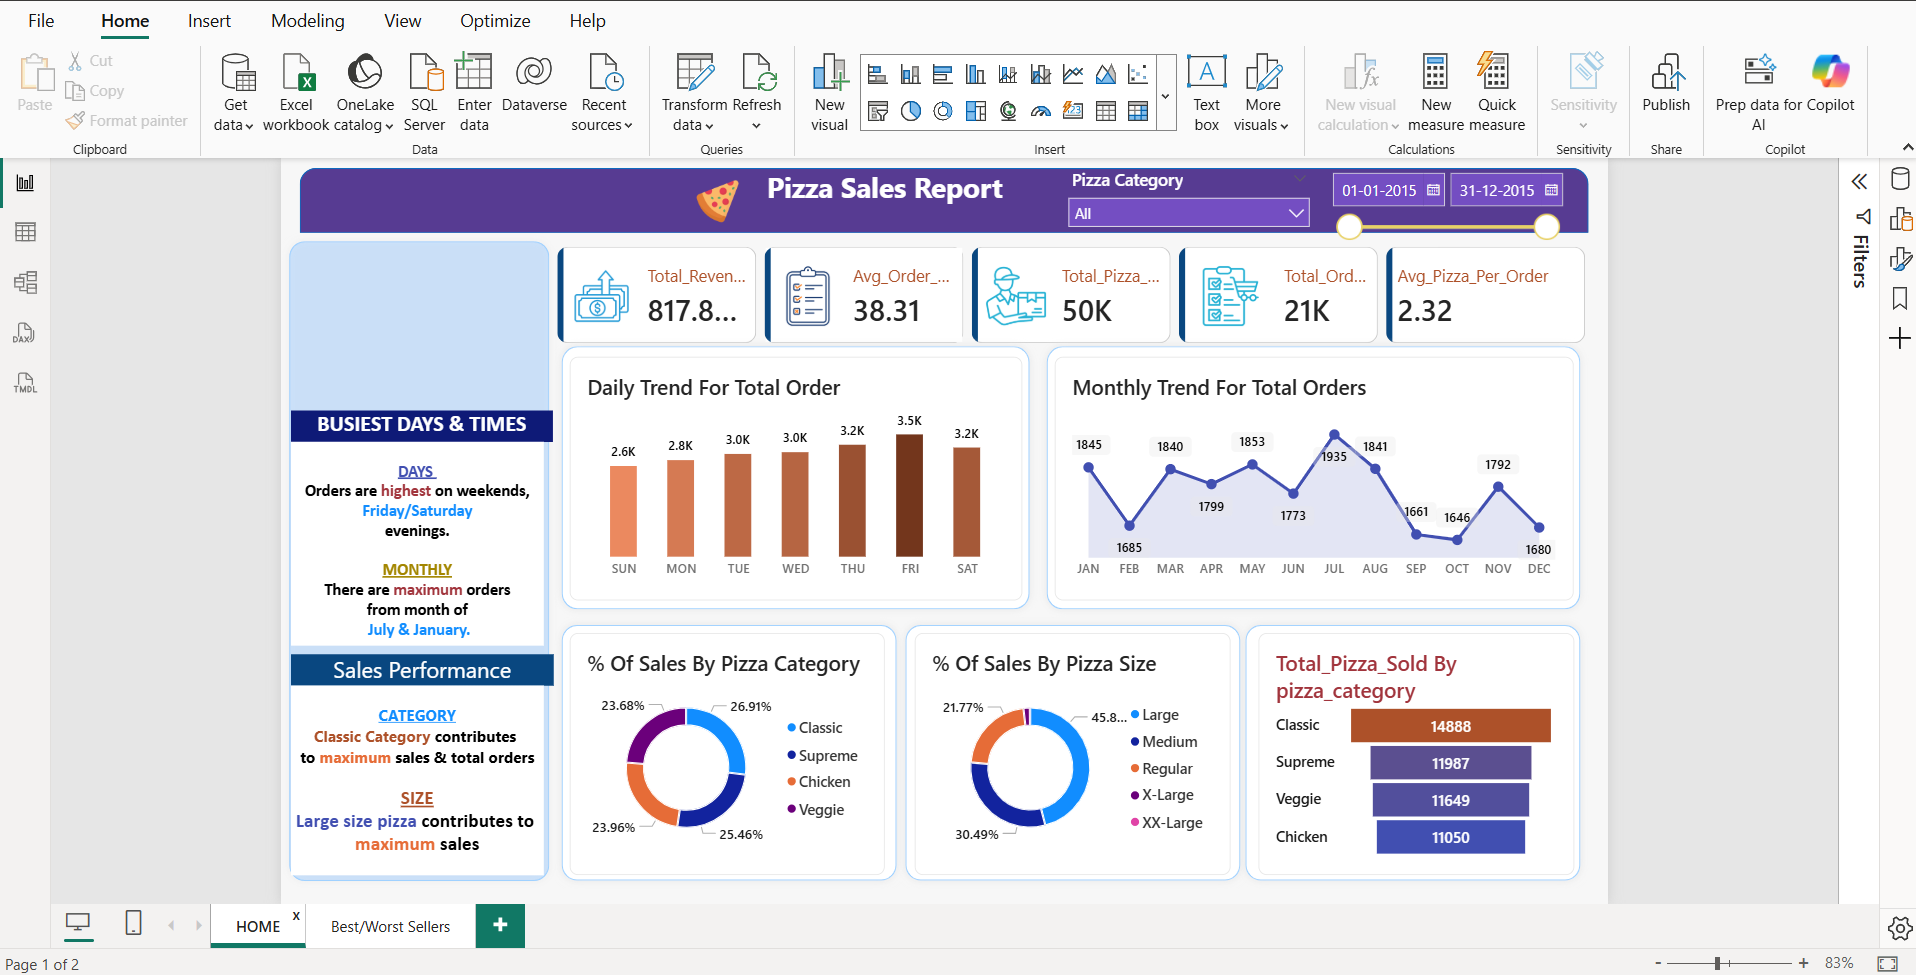

The page's visual inventory and layout, read from the dashboard file:
{"tool":"powerbi","page":{"name":"HOME","canvas":[1280,720],"ordinal":0},"visuals":[{"type":"cardVisual","fields":{"Data":["pizza_sales 1.Total_Revenue","pizza_sales 1.Avg_Order_Value","pizza_sales 1.Total_Pizza_Sold","pizza_sales 1.Total_Orders","pizza_sales 1.Avg_Pizza_Per_Order"]},"box":[266.9,85.1,995.5,93.8],"z":0},{"type":"shape","box":[18.1,9.7,1243.8,62.7],"z":1000},{"type":"textbox","box":[18.1,9.7,1129.2,62.7],"z":2000},{"type":"textbox","box":[485,41.2,343.8,31.2],"z":3000},{"type":"image","box":[340,20,162.5,42.5],"z":4000},{"type":"shape","box":[262.6,173.1,467.5,269.8],"z":5000},{"type":"columnChart","title":"Daily Trend For Total Order","fields":{"Category":["pizza_sales 1.order_day"],"Y":["pizza_sales 1.Total_Orders"]},"box":[278.5,191.9,437.2,235.2],"z":6000},{"type":"shape","box":[731.5,173.1,530.9,269.8],"z":7000},{"type":"areaChart","title":"Monthly Trend For Total Orders","fields":{"Y":["pizza_sales 1.Total_Orders"],"Category":["pizza_sales 1.order_Month"]},"box":[747.4,191.9,500.6,235.2],"z":8000},{"type":"shape","box":[262.6,442.9,339,262.6],"z":9000},{"type":"shape","box":[594.4,442.9,339,262.6],"z":10000},{"type":"shape","box":[923.4,442.9,339,262.6],"z":11000},{"type":"donutChart","title":"% Of Sales By Pizza Category","fields":{"Category":["pizza_sales 1.pizza_category"],"Y":["pizza_sales 1.Total_Revenue"]},"box":[278.5,458.8,304,233.7],"z":12000},{"type":"donutChart","title":"% Of Sales By Pizza Size","fields":{"Y":["pizza_sales 1.Total_Revenue"],"Category":["pizza_sales 1.pizza_size"]},"box":[611.7,458.8,304.4,233.7],"z":13000},{"type":"funnel","title":"Total_Pizza_Sold By pizza_category","fields":{"Category":["pizza_sales 1.pizza_category"],"Y":["pizza_sales 1.Total_Pizza_Sold"]},"box":[943.6,458.8,304.4,233.7],"z":14000},{"type":"shape","box":[0,72.1,266.9,633.4],"z":15000},{"type":"textbox","box":[10,243.8,252.5,30],"z":16000},{"type":"textbox","box":[9.7,273.9,243.7,196.6],"z":17000},{"type":"textbox","box":[9.7,479,253.4,30.2],"z":18000},{"type":"textbox","box":[9.7,509.1,243.7,183.4],"z":19000},{"type":"slicer","fields":{"Values":["pizza_sales 1.pizza_category"]},"box":[755.2,9.7,242.5,62],"z":20000},{"type":"slicer","fields":{"Values":["pizza_sales 1.order_date"]},"box":[1007.4,9.7,230,70],"z":21000}]}

Visuals, with their boxes on the page's 1280x720 design canvas (x1, y1, x2, y2). These are canvas units, not pixel positions in the 1916x975 screenshot, which may show the page scaled, cropped or inside an application window:
cardVisual - pizza_sales 1.Total_Revenue x pizza_sales 1.Avg_Order_Value: <box>267,85,1262,179</box>
shape: <box>18,10,1262,72</box>
textbox: <box>18,10,1147,72</box>
textbox: <box>485,41,829,72</box>
image: <box>340,20,502,62</box>
shape: <box>263,173,730,443</box>
"Daily Trend For Total Order" columnChart: <box>278,192,716,427</box>
shape: <box>732,173,1262,443</box>
"Monthly Trend For Total Orders" areaChart: <box>747,192,1248,427</box>
shape: <box>263,443,602,706</box>
shape: <box>594,443,933,706</box>
shape: <box>923,443,1262,706</box>
"% Of Sales By Pizza Category" donutChart: <box>278,459,582,692</box>
"% Of Sales By Pizza Size" donutChart: <box>612,459,916,692</box>
"Total_Pizza_Sold By pizza_category" funnel: <box>944,459,1248,692</box>
shape: <box>0,72,267,706</box>
textbox: <box>10,244,262,274</box>
textbox: <box>10,274,253,470</box>
textbox: <box>10,479,263,509</box>
textbox: <box>10,509,253,692</box>
slicer - pizza_sales 1.pizza_category: <box>755,10,998,72</box>
slicer - pizza_sales 1.order_date: <box>1007,10,1237,80</box>
